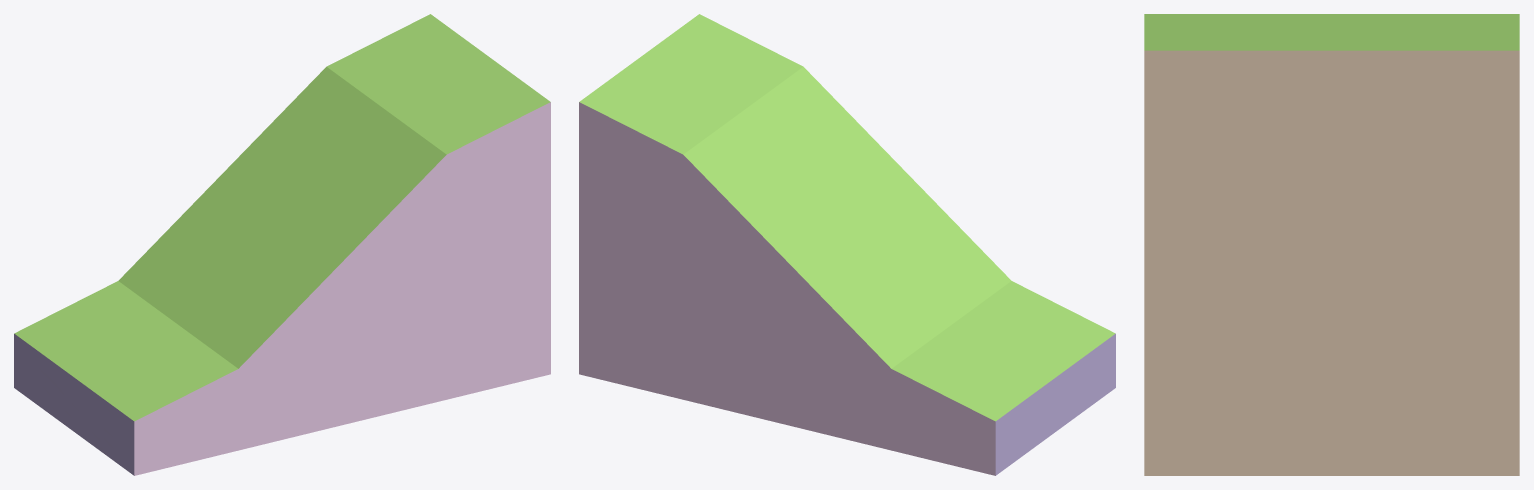
Rendered from Grass_Hill_Sharp_Straight_1x2.fbx.
3 views of the same model, side by side, from view 1: azimuth 30°, elevation 25°; view 2: azimuth 150°, elevation 25°; view 3: azimuth 270°, elevation 25° (orthographic). The views are drawn at different scales.
Visible parts, largest first — view 1: Grass_Hill_Sharp_Straight_1x2; view 2: Grass_Hill_Sharp_Straight_1x2; view 3: Grass_Hill_Sharp_Straight_1x2.
Part boxes in pixels (x1,y1,x2,y2): Grass_Hill_Sharp_Straight_1x2: (14,14,550,475); Grass_Hill_Sharp_Straight_1x2: (579,14,1115,475); Grass_Hill_Sharp_Straight_1x2: (1144,14,1519,475).
Size of the model in its own units: 200 by 125 by 100.
